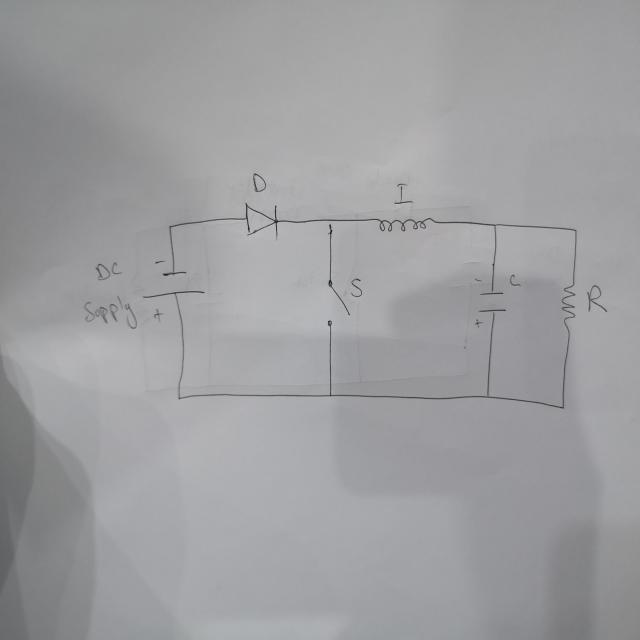capacitor: (470, 275, 509, 330)
diode: (243, 198, 280, 243)
inductor: (374, 215, 438, 235)
junction: (164, 220, 177, 234), (325, 216, 334, 236), (324, 387, 336, 401), (481, 388, 492, 403), (571, 225, 580, 236), (490, 220, 499, 231), (558, 402, 567, 411), (175, 392, 182, 403)
resistor: (558, 280, 579, 334)
source: (142, 254, 206, 324)
switch: (322, 278, 352, 329)
text: (80, 292, 140, 330), (586, 283, 608, 315), (392, 180, 416, 206), (93, 260, 124, 280), (250, 170, 267, 196), (347, 276, 364, 299), (507, 271, 522, 289)
